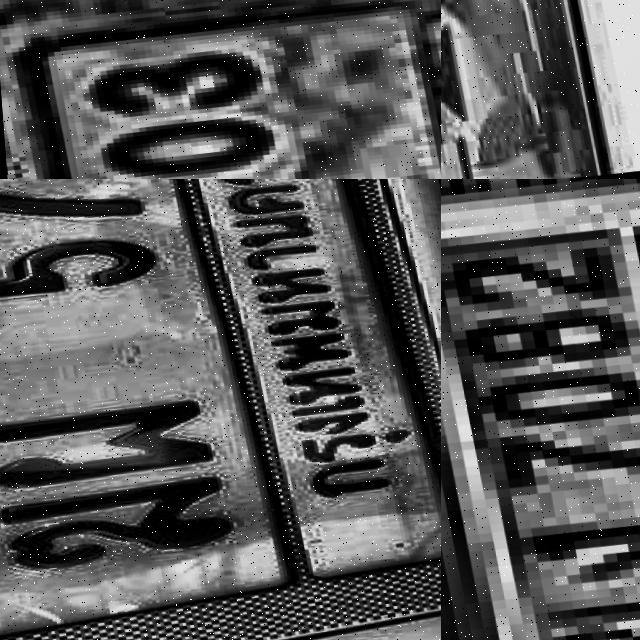license-plate: (0, 179, 441, 640), (441, 179, 640, 640), (0, 0, 441, 179), (441, 0, 625, 179)
